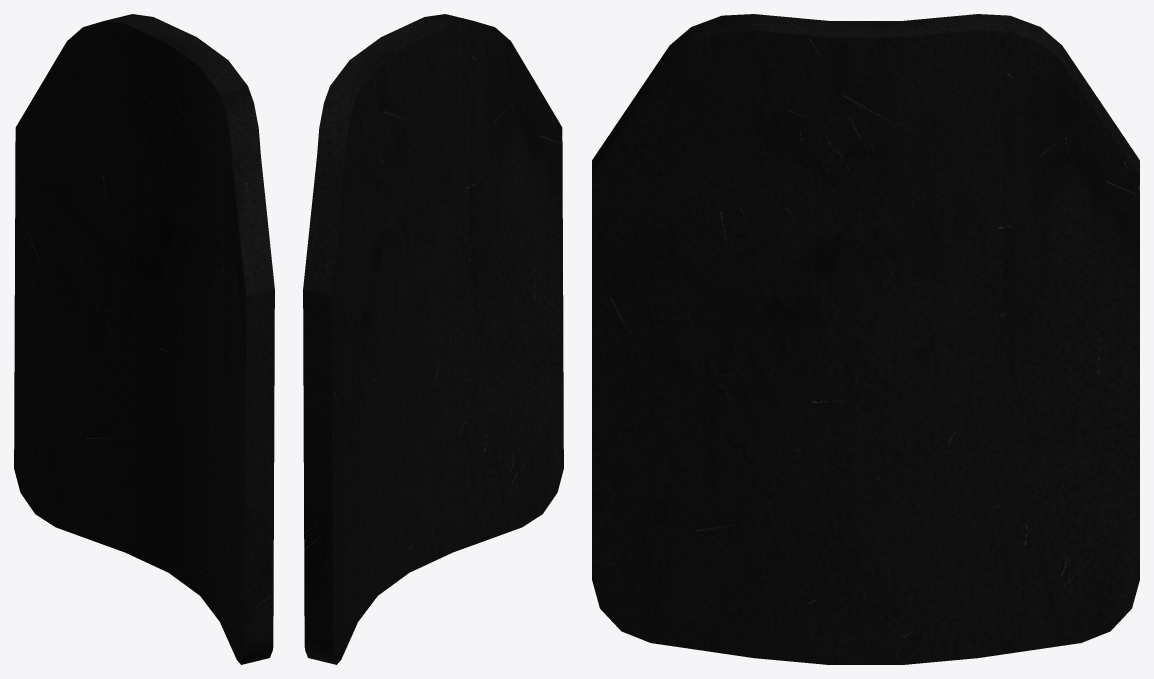
Rendered from armor.fbx.
The picture shows the model from 3 angles, left to right: view 1: azimuth 30°, elevation 25°; view 2: azimuth 150°, elevation 25°; view 3: azimuth 270°, elevation 25°; orthographic projection. The views are drawn at different scales.
Parts seen in each view (by area): view 1: Cube.037; view 2: Cube.037; view 3: Cube.037.
Part boxes in pixels (bbox=[...]): Cube.037: bbox=[14, 14, 274, 664]; Cube.037: bbox=[303, 14, 563, 664]; Cube.037: bbox=[592, 14, 1139, 664].
Bounding box in the file's own units: 0.1006 × 0.6106 × 0.4828.
